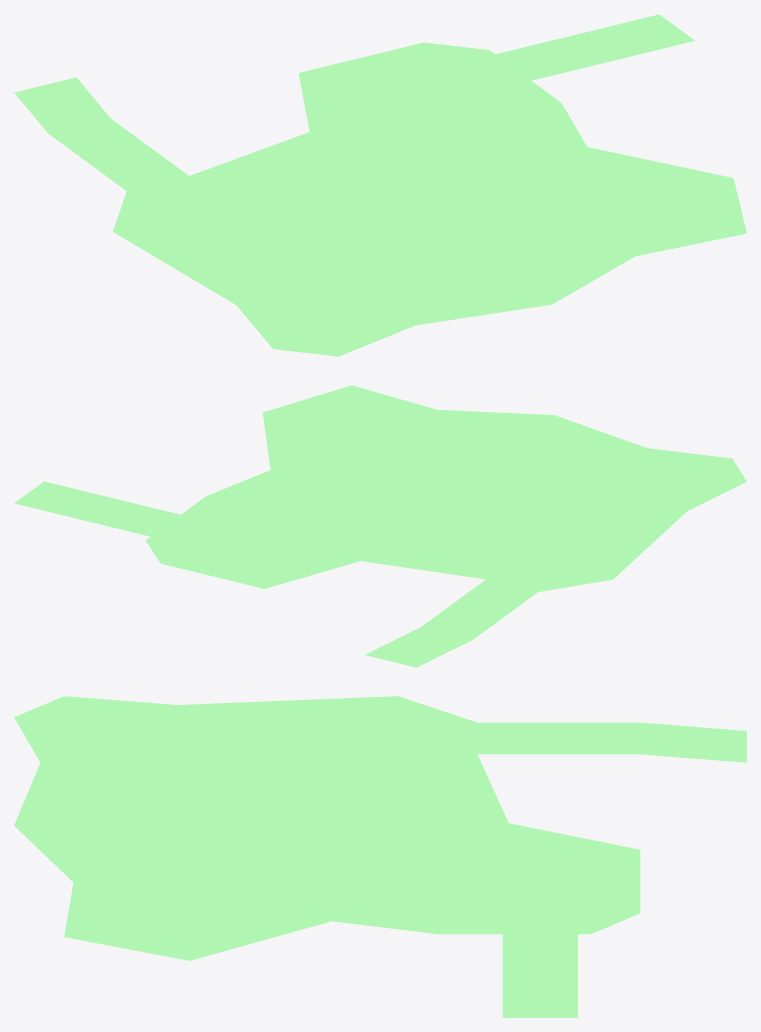
The model's file is s01b_lb1-floor.glb.
3 renders of one model, top to bottom at view 1: azimuth 30°, elevation 25°; view 2: azimuth 150°, elevation 25°; view 3: azimuth 270°, elevation 25°, orthographic. The views are drawn at different scales.
Parts seen in each view (by area): view 1: collision_floor-colonly; view 2: collision_floor-colonly; view 3: collision_floor-colonly.
Part boxes in pixels (x1,y1,x2,y2): collision_floor-colonly: (15,15,746,356); collision_floor-colonly: (15,385,746,667); collision_floor-colonly: (14,696,746,1017).
Bounding box in the file's own units: 60.75 × 0 × 58.5.
